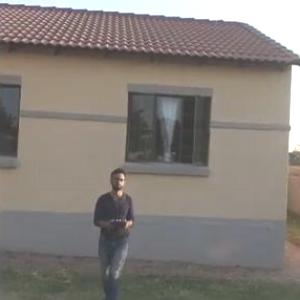follow: (89, 167, 145, 299)
